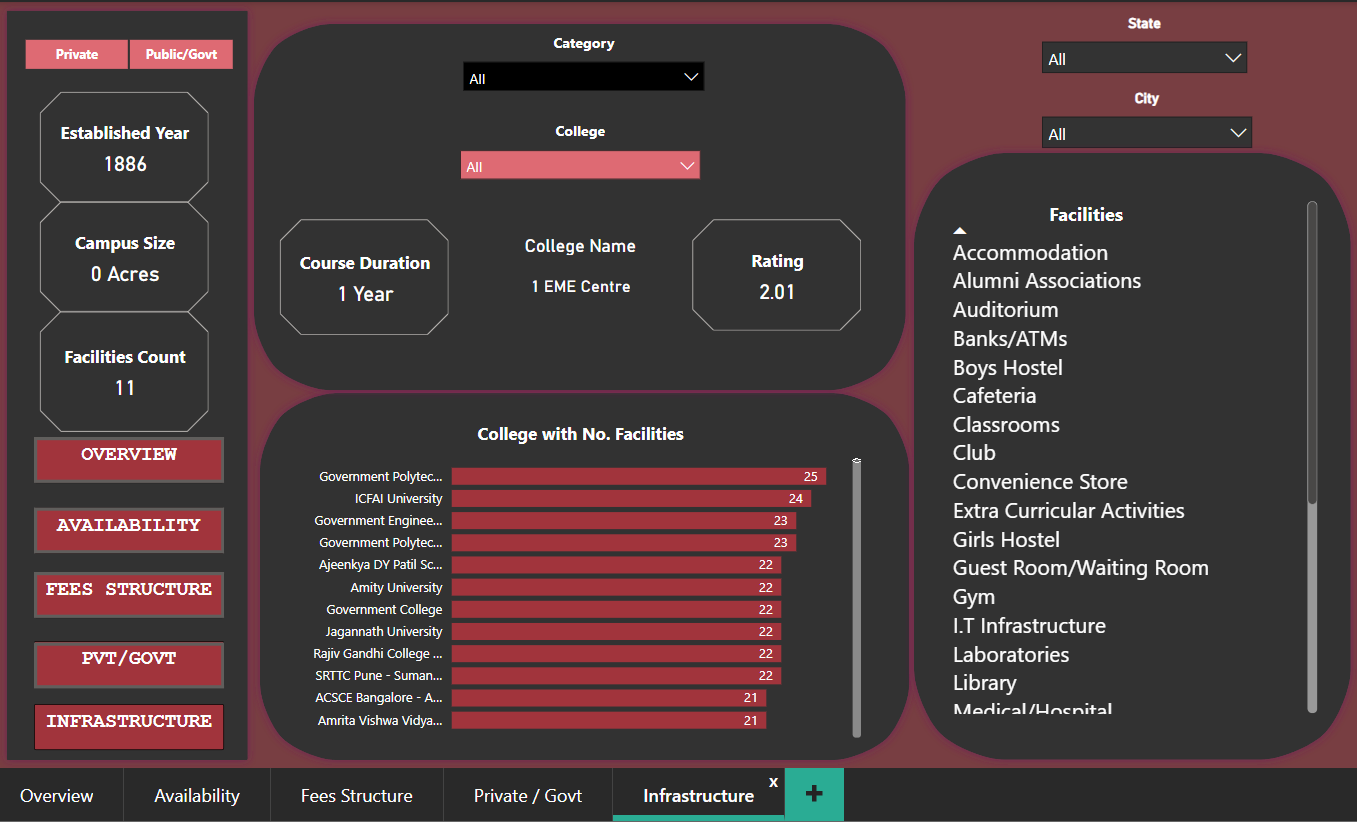

The page's visual inventory and layout, read from the dashboard file:
{"tool":"powerbi","page":{"name":"Infrastructure","canvas":[1280,720],"ordinal":4},"visuals":[{"type":"shape","box":[0,0,242.8,720.5],"z":0},{"type":"slicer","fields":{"Values":["Colleges.College Type"]},"box":[0,28.8,244.4,41.5],"z":1000},{"type":"slicer","title":"City","fields":{"Values":["Colleges.City"]},"box":[971.4,83.1,217.3,57.5],"z":2000},{"type":"slicer","title":"State","fields":{"Values":["Colleges.State"]},"box":[971.4,12.8,212.5,57.5],"z":3000},{"type":"shape","box":[238.1,359.5,626.3,361.1],"z":4000},{"type":"shape","box":[853.2,134.2,426.6,586.3],"z":5000},{"type":"shape","box":[233.3,12.7,628.6,360.3],"z":6000},{"type":"card","title":"College Name","fields":{"Values":["Min(Details.College Name)"]},"box":[466.5,218.9,161.4,78.3],"z":7000},{"type":"cardVisual","fields":{"Data":["College 2.Facility_Count"]},"box":[33.6,284.4,169.4,124.6],"z":8000},{"type":"cardVisual","fields":{"Data":["Min(College 2.Campus Size)"]},"box":[33.6,182.1,169.4,115],"z":9000},{"type":"barChart","title":"College with No. Facilities","fields":{"Category":["Colleges.College Name"],"Y":["College 2.Facility_Count"]},"box":[279.6,394.6,536.8,302],"z":10000},{"type":"cardVisual","fields":{"Data":["Min(College 2.Established Year)"]},"box":[33.6,78.3,169.4,115],"z":11000},{"type":"textbox","box":[33.6,409,178.9,43.1],"z":12000},{"type":"textbox","box":[33.6,474.5,178.9,43.1],"z":13000},{"type":"textbox","box":[33.6,535.2,178.9,43.1],"z":14000},{"type":"textbox","box":[33.6,659.8,178.9,43.1],"z":15000},{"type":"actionButton","box":[33.6,409,178.9,43.1],"z":16000},{"type":"textbox","box":[33.6,600.7,178.9,43.1],"z":17000},{"type":"actionButton","box":[33.6,535.2,178.9,43.1],"z":18000},{"type":"actionButton","box":[33.6,474.5,178.9,43.1],"z":19000},{"type":"actionButton","box":[33.6,602.3,178.9,43.1],"z":20000},{"type":"slicer","title":"Category","fields":{"Values":["Details.Course_Category"]},"box":[427.7,28.6,246.9,60.8],"z":21000},{"type":"tableEx","fields":{"Values":["Facility Split.Facilities"]},"box":[886.2,182.1,358.1,491.6],"z":22000},{"type":"cardVisual","fields":{"Data":["Min(College 2.Rating)"]},"box":[647.1,198.1,169.4,115],"z":23000},{"type":"cardVisual","fields":{"Data":["Min(Details.Duration)"]},"box":[258.8,198.1,169.4,119.8],"z":24000},{"type":"slicer","title":"College","fields":{"Values":["Details.College Name"]},"box":[425,111.8,246,60.7],"z":25000}]}

Visuals, with their boxes on the page's 1280x720 design canvas (x1, y1, x2, y2). These are canvas units, not pixel positions in the 1357x822 screenshot, which may show the page scaled, cropped or inside an application window:
shape: bbox=(0, 0, 243, 720)
slicer - Colleges.College Type: bbox=(0, 29, 244, 70)
"City" slicer: bbox=(971, 83, 1189, 141)
"State" slicer: bbox=(971, 13, 1184, 70)
shape: bbox=(238, 360, 864, 721)
shape: bbox=(853, 134, 1280, 720)
shape: bbox=(233, 13, 862, 373)
"College Name" card: bbox=(466, 219, 628, 297)
cardVisual - College 2.Facility_Count: bbox=(34, 284, 203, 409)
cardVisual - Min(College 2.Campus Size): bbox=(34, 182, 203, 297)
"College with No. Facilities" barChart: bbox=(280, 395, 816, 697)
cardVisual - Min(College 2.Established Year): bbox=(34, 78, 203, 193)
textbox: bbox=(34, 409, 212, 452)
textbox: bbox=(34, 474, 212, 518)
textbox: bbox=(34, 535, 212, 578)
textbox: bbox=(34, 660, 212, 703)
actionButton: bbox=(34, 409, 212, 452)
textbox: bbox=(34, 601, 212, 644)
actionButton: bbox=(34, 535, 212, 578)
actionButton: bbox=(34, 474, 212, 518)
actionButton: bbox=(34, 602, 212, 645)
"Category" slicer: bbox=(428, 29, 675, 89)
tableEx - Facility Split.Facilities: bbox=(886, 182, 1244, 674)
cardVisual - Min(College 2.Rating): bbox=(647, 198, 816, 313)
cardVisual - Min(Details.Duration): bbox=(259, 198, 428, 318)
"College" slicer: bbox=(425, 112, 671, 172)
